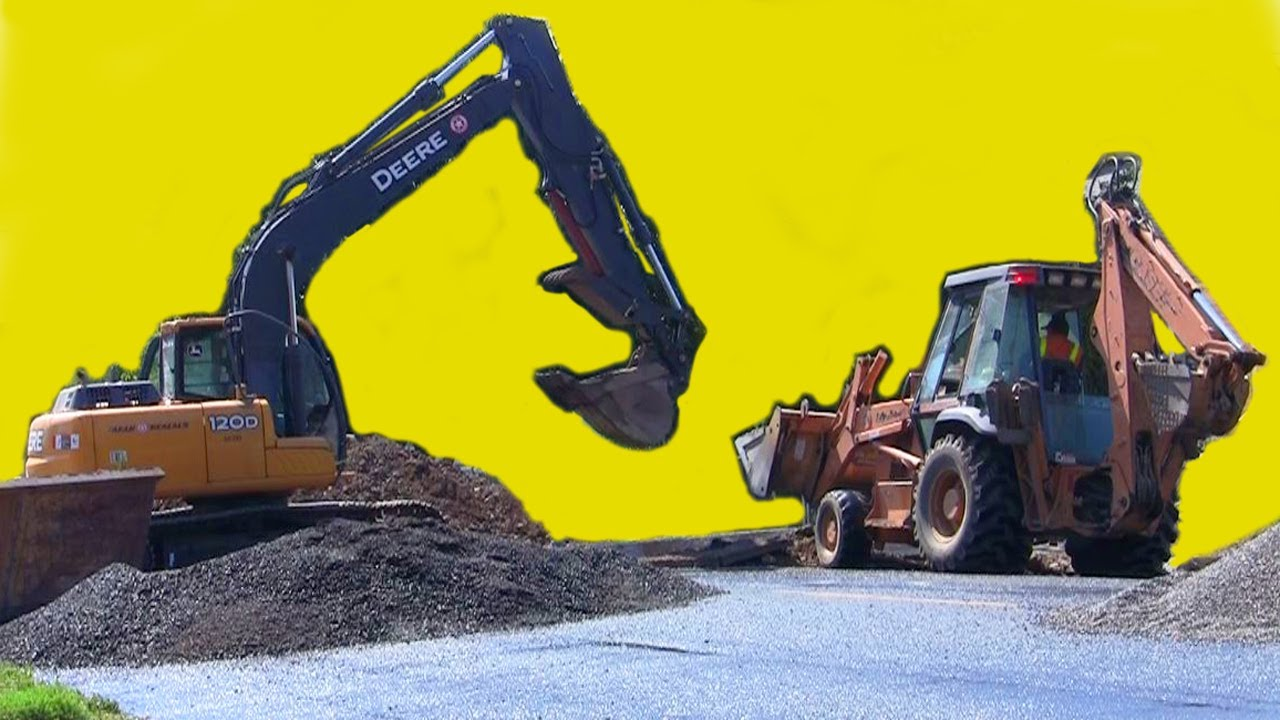backhoe: (21, 1, 722, 567), (726, 142, 1243, 560)
